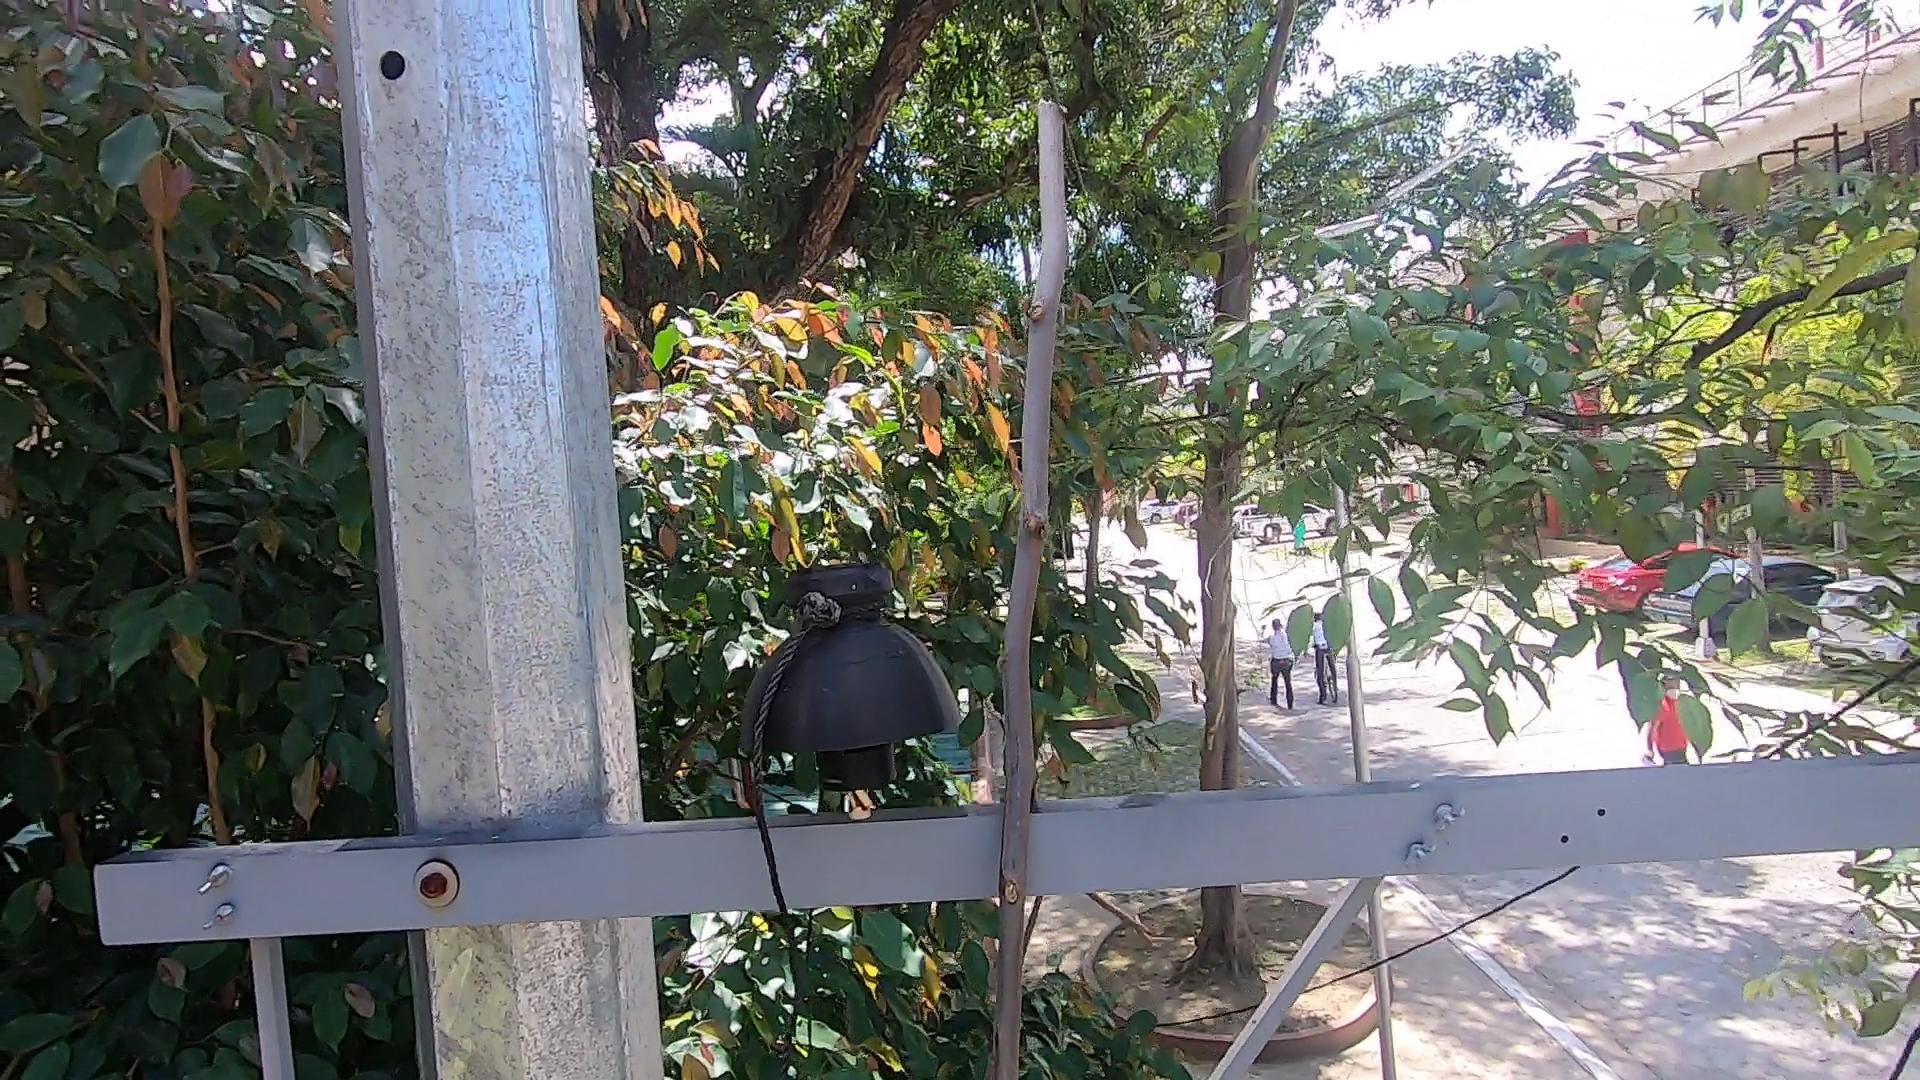tree branch: (965, 84, 1149, 1068)
